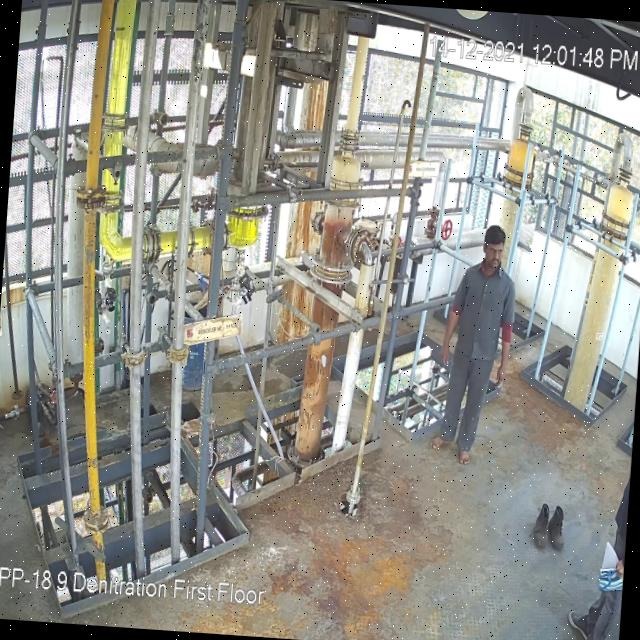boots: (530, 500, 555, 550), (548, 505, 568, 549)
no-boots: (426, 434, 452, 450), (454, 448, 471, 469)
